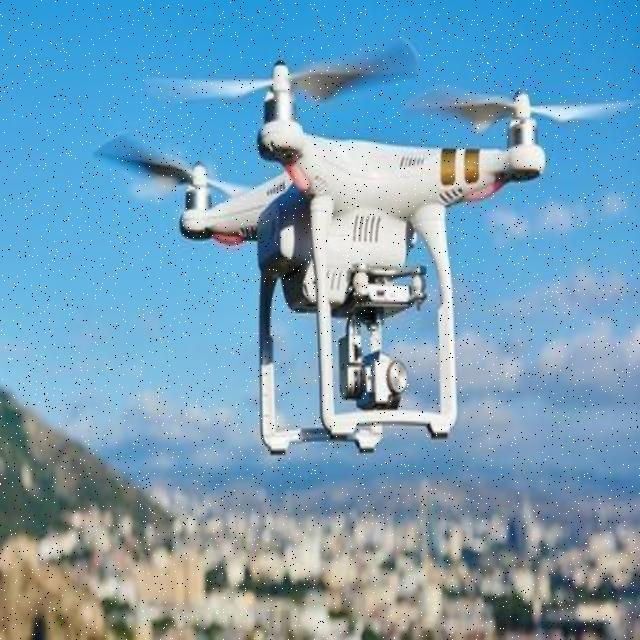UAV: (177, 57, 548, 456)
